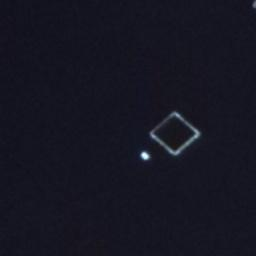square_solid: (146, 107, 205, 158)
